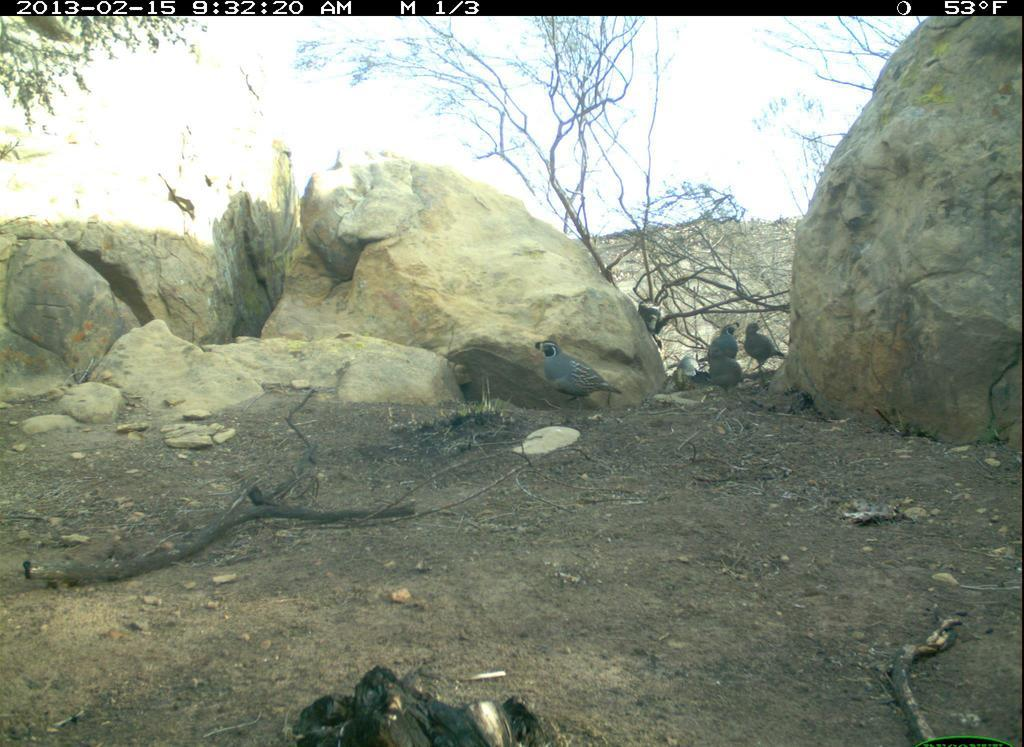bird: (539, 337, 625, 415), (745, 322, 785, 379), (709, 345, 744, 394), (713, 324, 740, 358)
